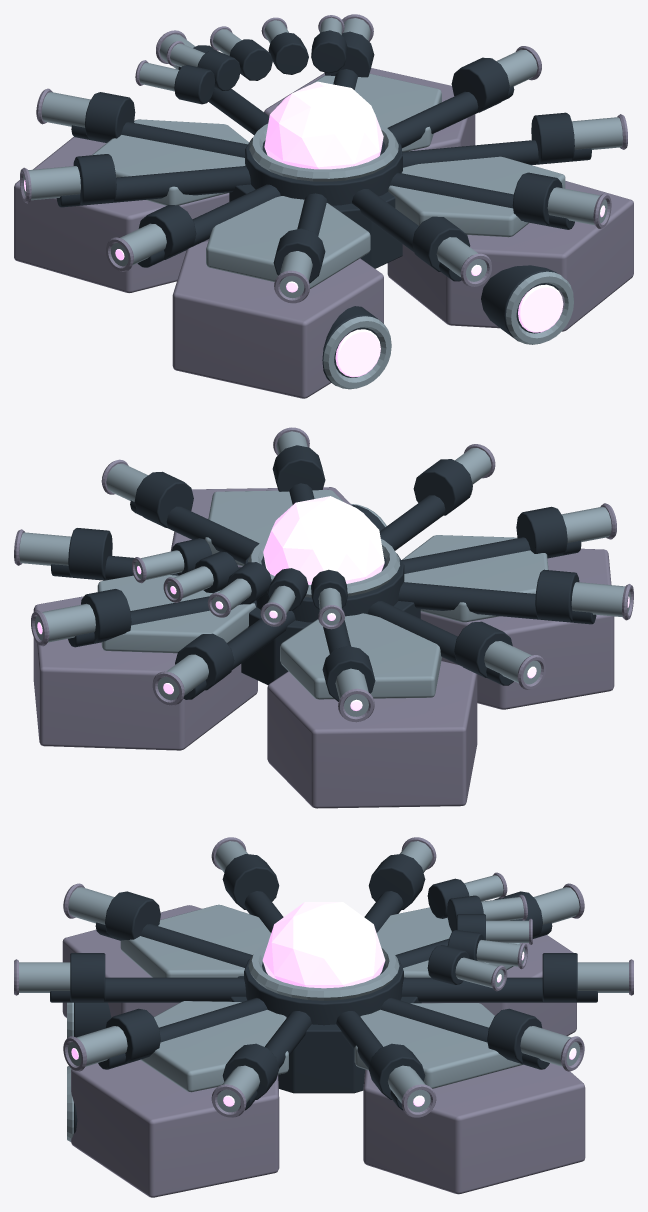
The model's file is asteroidBoss_geodo.glb.
3 views of the same model, one above another, from view 1: azimuth 30°, elevation 25°; view 2: azimuth 150°, elevation 25°; view 3: azimuth 270°, elevation 25° (orthographic).
Parts seen in each view (by area): view 1: ring_rotor | Graphite chassis, fracture_quadrant_2 | GEODO | armor, asteroidBoss | Graphite chassis, fracture_quadrant_3 | GEODO | armor, fracture_quadrant_1 | GEODO | armor, asteroidBoss | GEODO | energy, ring_rotor | Titanium, asteroidBoss | Titanium, fracture_quadrant_2 | Titanium, fracture_quadrant_3 | Titanium, fracture_quadrant_1 | Titanium, ring_rotor | GEODO | armor (+3 smaller); view 2: ring_rotor | Graphite chassis, fracture_quadrant_1 | GEODO | armor, fracture_quadrant_0 | GEODO | armor, ring_rotor | Titanium, fracture_quadrant_2 | GEODO | armor, asteroidBoss | Graphite chassis, fracture_quadrant_1 | Titanium, asteroidBoss | GEODO | energy, fracture_quadrant_2 | Titanium, fracture_quadrant_0 | Titanium, asteroidBoss | Titanium, ring_rotor | GEODO | armor (+3 smaller); view 3: ring_rotor | Graphite chassis, fracture_quadrant_0 | GEODO | armor, fracture_quadrant_3 | GEODO | armor, asteroidBoss | Graphite chassis, ring_rotor | Titanium, asteroidBoss | GEODO | energy, asteroidBoss | Titanium, fracture_quadrant_3 | Titanium, fracture_quadrant_0 | Titanium, fracture_quadrant_2 | Titanium, ring_rotor | GEODO | armor, fracture_quadrant_2 | GEODO | armor (+3 smaller).
Boxes of the visible parts, box(x1,y1,x2,y2) form: ring_rotor | Graphite chassis: box(56, 31, 591, 283); fracture_quadrant_2 | GEODO | armor: box(172, 241, 383, 398); asteroidBoss | Graphite chassis: box(174, 30, 558, 385); fracture_quadrant_3 | GEODO | armor: box(387, 181, 633, 331); fracture_quadrant_1 | GEODO | armor: box(14, 137, 229, 293); asteroidBoss | GEODO | energy: box(264, 81, 563, 377); ring_rotor | Titanium: box(23, 18, 622, 297); asteroidBoss | Titanium: box(139, 17, 573, 389); fracture_quadrant_2 | Titanium: box(206, 196, 370, 288); fracture_quadrant_3 | Titanium: box(388, 156, 565, 237); fracture_quadrant_1 | Titanium: box(92, 119, 248, 205); ring_rotor | GEODO | armor: box(20, 14, 627, 303); ring_rotor | Graphite chassis: box(51, 445, 596, 701); fracture_quadrant_1 | GEODO | armor: box(267, 661, 477, 808); fracture_quadrant_0 | GEODO | armor: box(33, 596, 257, 750); ring_rotor | Titanium: box(19, 431, 630, 716); fracture_quadrant_2 | GEODO | armor: box(420, 548, 614, 709); asteroidBoss | Graphite chassis: box(172, 505, 420, 684); fracture_quadrant_1 | Titanium: box(280, 613, 441, 699); asteroidBoss | GEODO | energy: box(137, 496, 384, 620); fracture_quadrant_2 | Titanium: box(402, 535, 548, 622); fracture_quadrant_0 | Titanium: box(97, 575, 255, 653); asteroidBoss | Titanium: box(135, 504, 399, 625); ring_rotor | GEODO | armor: box(14, 427, 633, 722); ring_rotor | Graphite chassis: box(50, 854, 597, 1110); fracture_quadrant_0 | GEODO | armor: box(363, 1063, 585, 1194); fracture_quadrant_3 | GEODO | armor: box(71, 1060, 279, 1197); asteroidBoss | Graphite chassis: box(74, 878, 485, 1133); ring_rotor | Titanium: box(19, 841, 628, 1112); asteroidBoss | GEODO | energy: box(262, 902, 524, 988); asteroidBoss | Titanium: box(67, 875, 528, 1141); fracture_quadrant_3 | Titanium: box(140, 1001, 288, 1092); fracture_quadrant_0 | Titanium: box(354, 1003, 522, 1088); fracture_quadrant_2 | Titanium: box(120, 904, 270, 977); ring_rotor | GEODO | armor: box(14, 837, 633, 1117); fracture_quadrant_2 | GEODO | armor: box(62, 905, 201, 1017).
Bounding box in the file's own units: 2.15 × 0.752 × 2.22.
